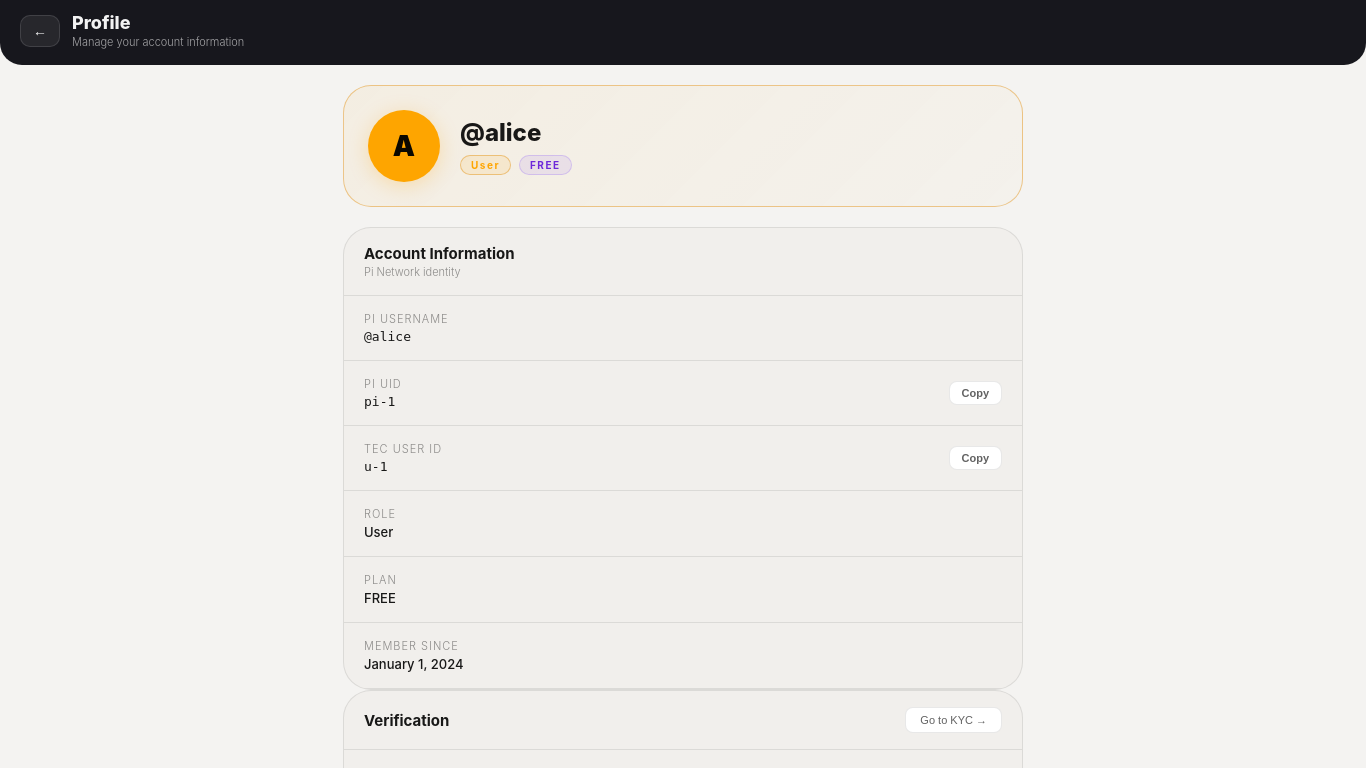
hub profile page interactions › Copy button copies value then shows check mark
The image size is (1366, 768).
Click the button "Copy" in the row of "Pi UID". click: (975, 393)
box: x1=948 y1=381 x2=1002 y2=405
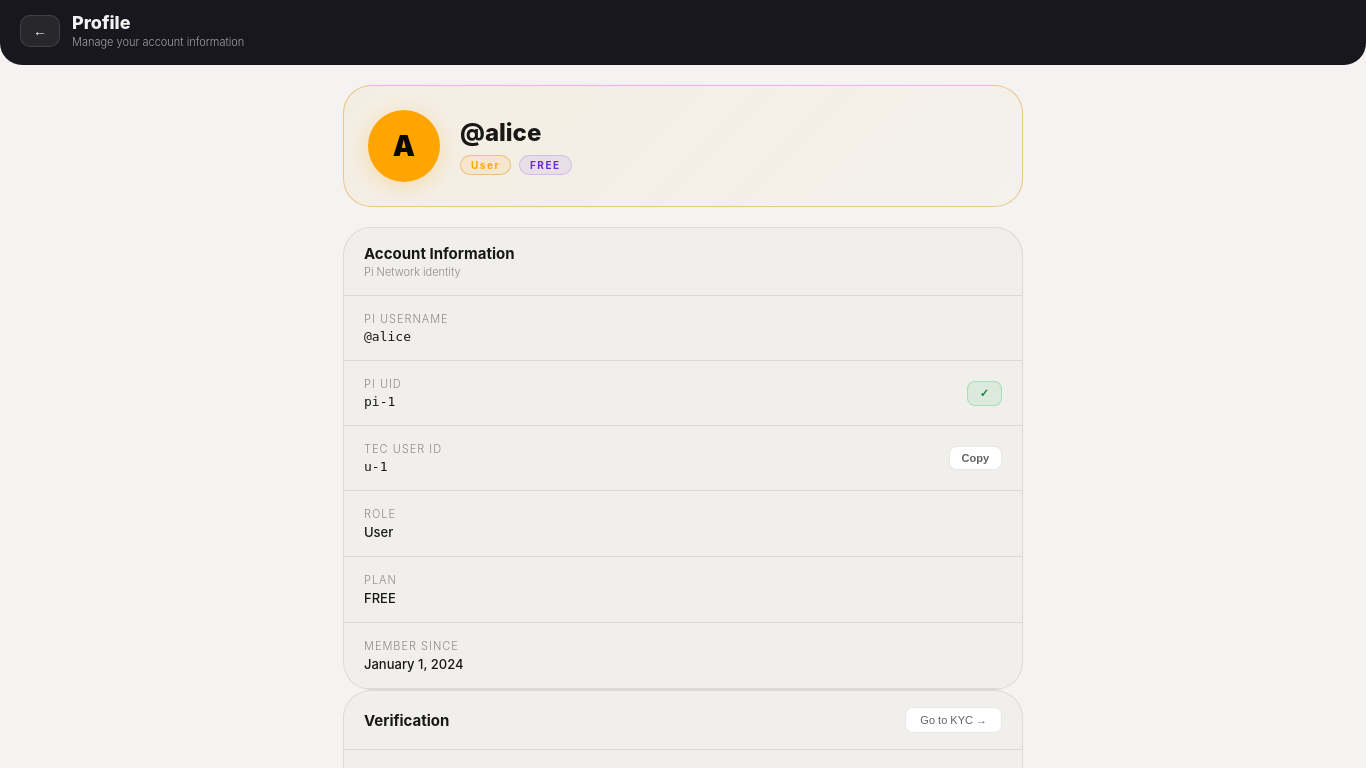
Expected: the text "✓" is shown, x1=967 y1=380 x2=1002 y2=406
